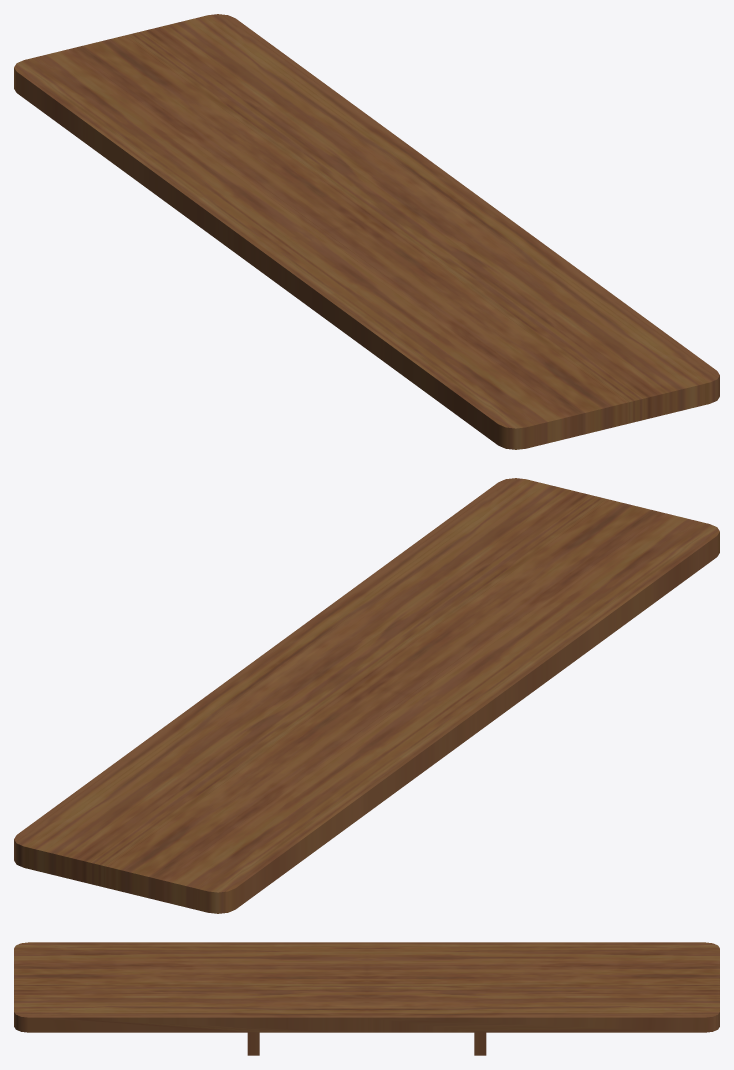
The model's file is CI_106_shelf_long_var1.glb.
3 views of the same model, one above another, from view 1: azimuth 30°, elevation 25°; view 2: azimuth 150°, elevation 25°; view 3: azimuth 270°, elevation 25° (orthographic). The views are drawn at different scales.
Visible parts, largest first — view 1: shelf_long; view 2: shelf_long; view 3: shelf_long.
Boxes of the visible parts, x1,y1,x2,y2 form: shelf_long: (14, 14, 719, 449); shelf_long: (14, 478, 719, 913); shelf_long: (14, 942, 719, 1055).
Bounding box in the file's own units: 0.75 × 0.1765 × 2.98.
Materials: 1 (1 with a texture image).
